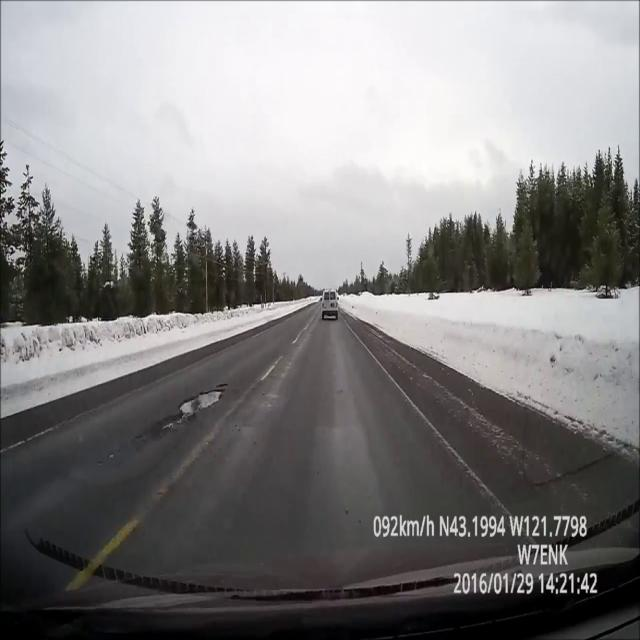Pothole: (176, 390, 226, 418), (216, 382, 228, 389)
